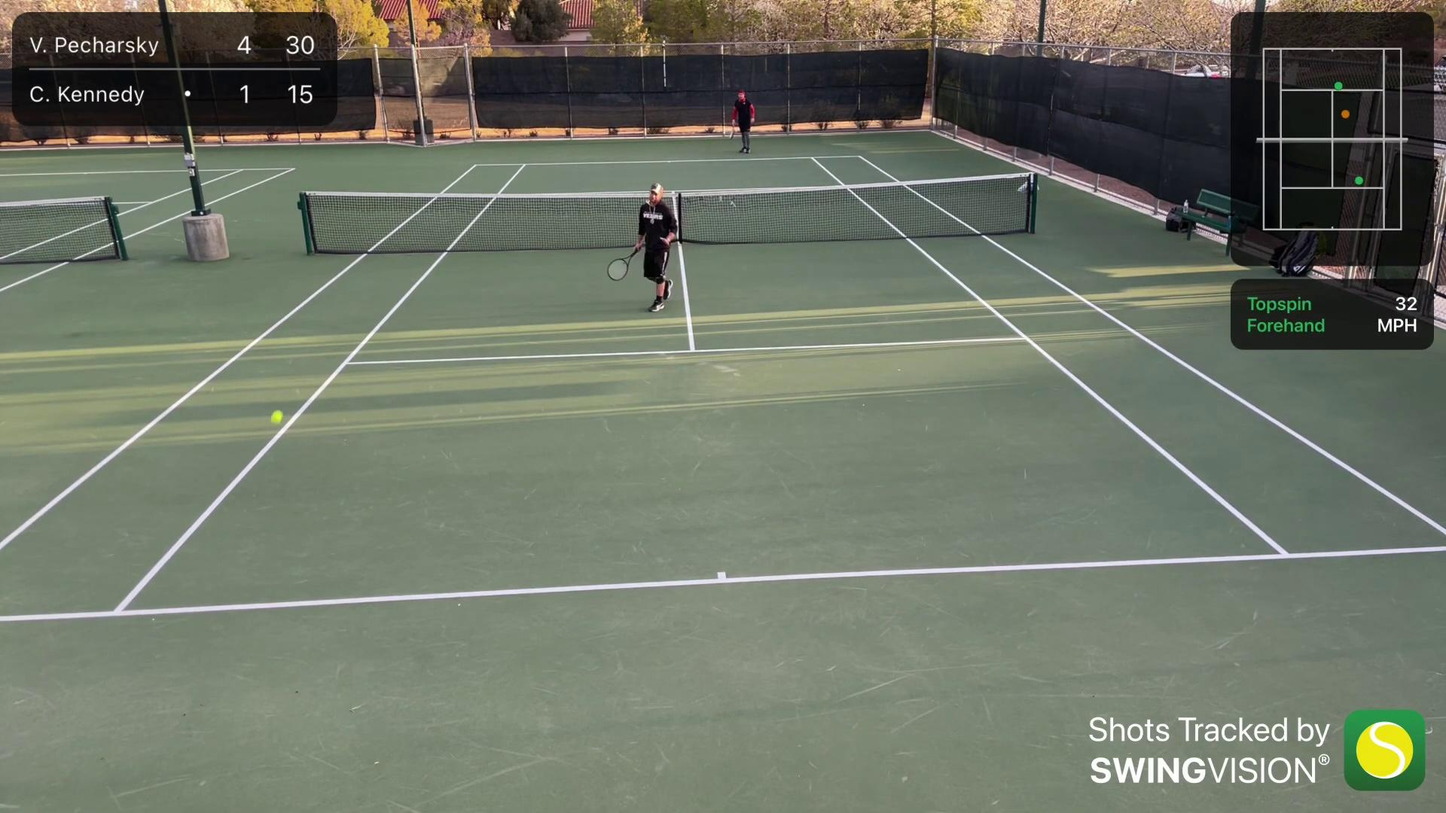ball: (269, 409, 287, 425)
